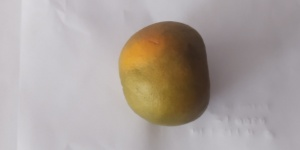BAD: (118, 19, 214, 128)
